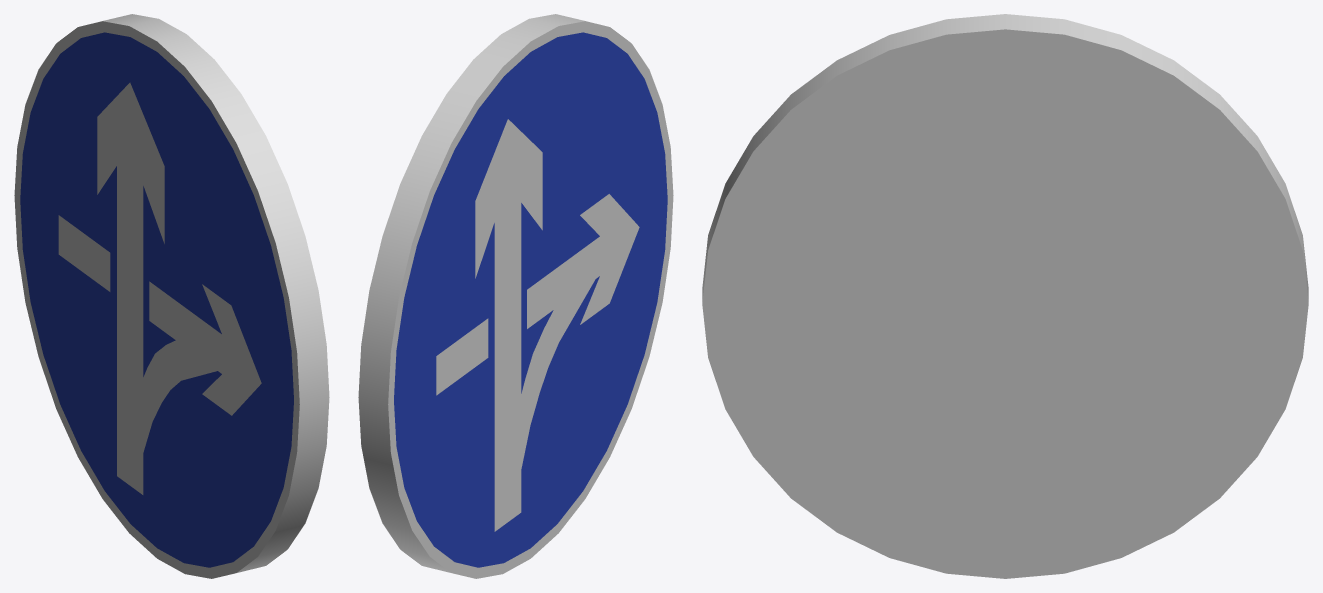
The model's file is Flyover_Straight_And_TurnRight.fbx.
The picture shows the model from 3 angles, left to right: view 1: azimuth 30°, elevation 25°; view 2: azimuth 150°, elevation 25°; view 3: azimuth 270°, elevation 25°; orthographic projection. The views are drawn at different scales.
Parts seen in each view (by area): view 1: Flyover_Straight_And_TurnRight; view 2: Flyover_Straight_And_TurnRight; view 3: Flyover_Straight_And_TurnRight.
Part boxes in pixels (box(x1,y1,x2,y2)): Flyover_Straight_And_TurnRight: box(14, 14, 329, 578); Flyover_Straight_And_TurnRight: box(358, 14, 673, 578); Flyover_Straight_And_TurnRight: box(702, 14, 1308, 578).
Bounding box in the file's own units: 0.0643 × 1 × 1.
